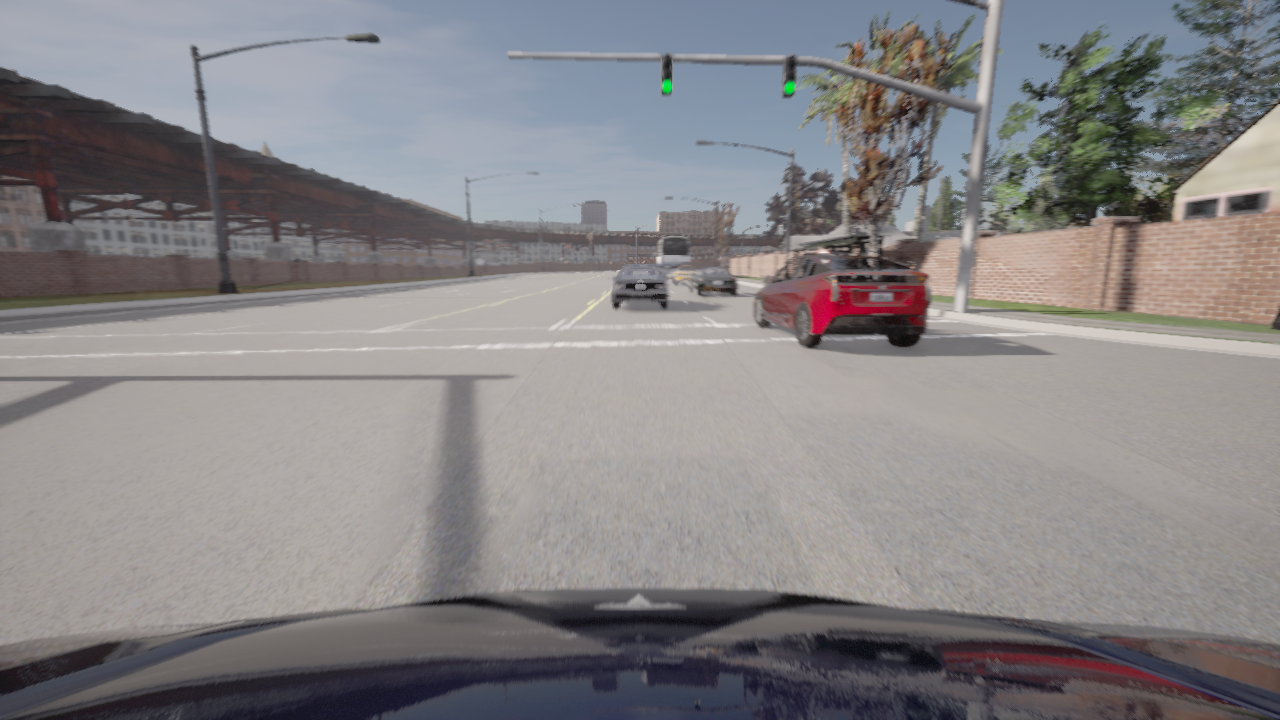cyclist: (0, 588, 1279, 719), (753, 254, 930, 347), (612, 265, 667, 308), (652, 236, 689, 276), (687, 267, 736, 296), (672, 264, 696, 284)
